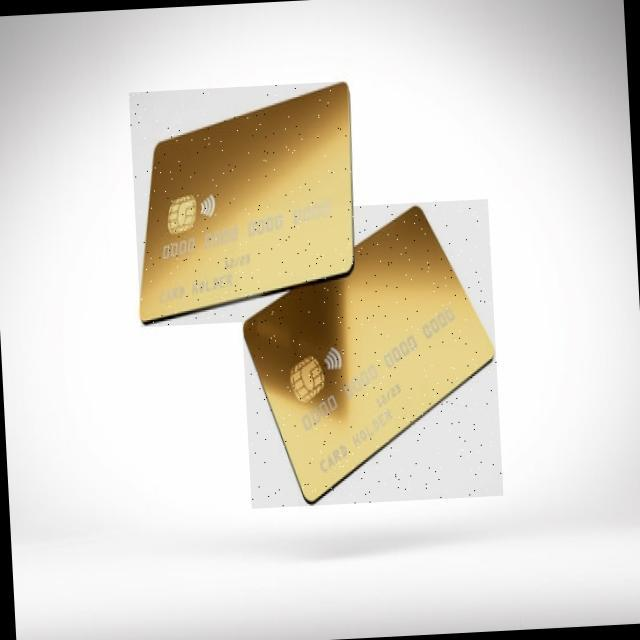payment_card: (241, 199, 500, 506), (128, 80, 355, 324)
